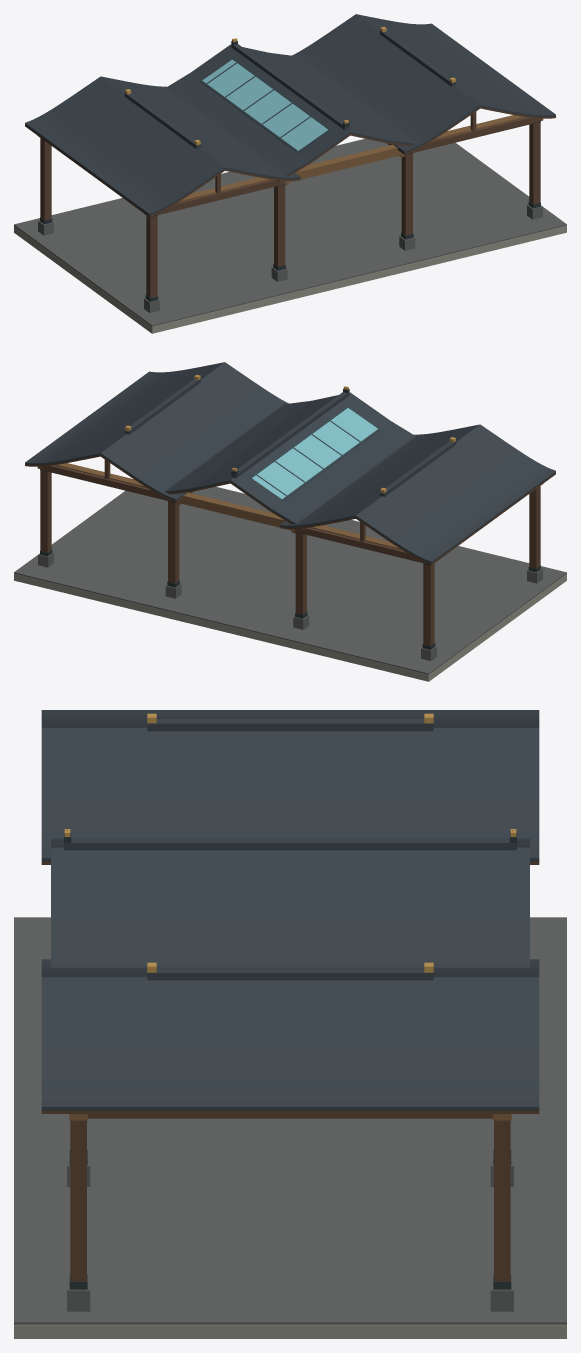
3 renders of one model, top to bottom at view 1: azimuth 30°, elevation 25°; view 2: azimuth 150°, elevation 25°; view 3: azimuth 270°, elevation 25°, orthographic. The views are drawn at different scales.
Visible parts, largest first — view 1: 石铺面与混凝土承板, 连续飞檐与梁椽 (×2), 连续屋面 · gable, 石础、木柱与金属承箍 (×5), 工业屋面连续采光带, 三跨候车棚共用承梁; view 2: 石铺面与混凝土承板, 连续飞檐与梁椽 (×2), 连续屋面 · gable, 石础、木柱与金属承箍 (×5), 工业屋面连续采光带, 三跨候车棚共用承梁; view 3: 连续飞檐与梁椽 (×2), 石铺面与混凝土承板, 连续屋面 · gable, 石础、木柱与金属承箍 (×2), 三跨候车棚共用承梁.
Boxes of the visible parts, x1=… form: 石铺面与混凝土承板: x1=14, y1=138, x2=566, y2=333; 连续飞檐与梁椽 (×2): x1=25, y1=14, x2=555, y2=217; 连续屋面 · gable: x1=164, y1=38, x2=415, y2=185; 石础、木柱与金属承箍 (×5): x1=38, y1=121, x2=542, y2=312; 工业屋面连续采光带: x1=200, y1=58, x2=330, y2=152; 三跨候车棚共用承梁: x1=38, y1=115, x2=543, y2=216; 石铺面与混凝土承板: x1=14, y1=486, x2=566, y2=681; 连续飞檐与梁椽 (×2): x1=25, y1=362, x2=555, y2=565; 连续屋面 · gable: x1=165, y1=386, x2=416, y2=533; 石础、木柱与金属承箍 (×5): x1=38, y1=469, x2=542, y2=660; 工业屋面连续采光带: x1=250, y1=406, x2=380, y2=500; 三跨候车棚共用承梁: x1=37, y1=463, x2=542, y2=564; 连续飞檐与梁椽 (×2): x1=41, y1=710, x2=539, y2=1113; 石铺面与混凝土承板: x1=14, y1=917, x2=566, y2=1338; 连续屋面 · gable: x1=51, y1=829, x2=529, y2=967; 石础、木柱与金属承箍 (×2): x1=67, y1=1120, x2=513, y2=1311; 三跨候车棚共用承梁: x1=69, y1=1114, x2=511, y2=1120.
Size of the model in its own units: 20.8 by 7.34 by 12.
Materials: 12 (12 with a texture image).
